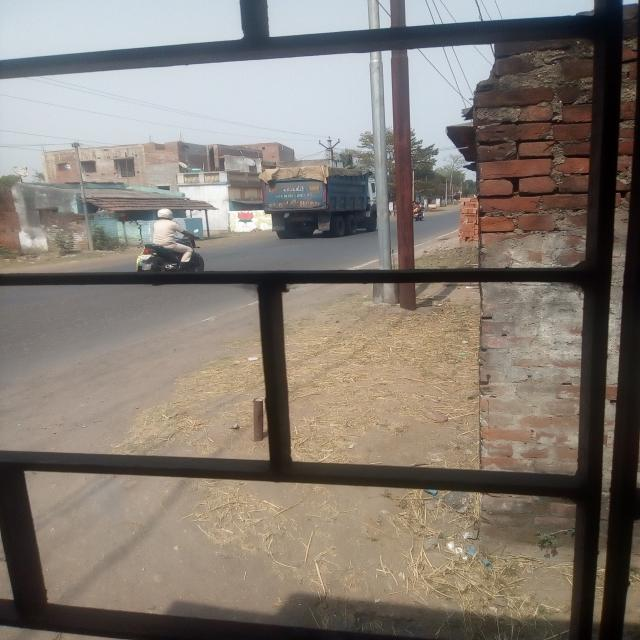Bike: (129, 204, 206, 272)
truck: (239, 157, 380, 245)
